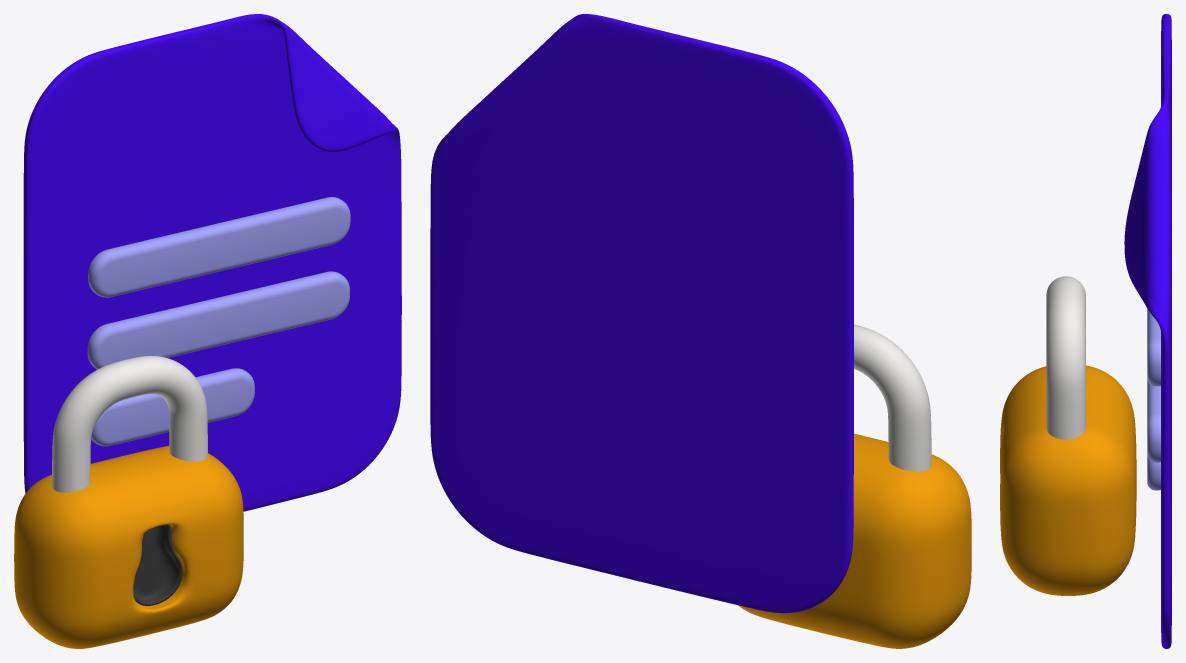
Rendered from file-locked-3d-animated-icon-969248136684.glb.
3 views of the same model, side by side, from view 1: azimuth 30°, elevation 25°; view 2: azimuth 150°, elevation 25°; view 3: azimuth 270°, elevation 25° (orthographic). The views are drawn at different scales.
Visible parts, largest first — view 1: File Base.007, Lock Base, Text.009, Lock, Hole; view 2: File Base.007, Lock Base, Lock; view 3: Lock Base, File Base.007, Lock, Text.009.
Boxes of the visible parts, left/top/right/bottom form: File Base.007: left=23, top=14, right=401, bottom=511; Lock Base: left=14, top=445, right=243, bottom=648; Text.009: left=87, top=197, right=350, bottom=446; Lock: left=52, top=355, right=207, bottom=492; Hole: left=133, top=524, right=182, bottom=605; File Base.007: left=430, top=14, right=853, bottom=613; Lock Base: left=738, top=433, right=971, bottom=648; Lock: left=854, top=324, right=931, bottom=471; Lock Base: left=1000, top=365, right=1136, bottom=595; File Base.007: left=1124, top=14, right=1171, bottom=648; Lock: left=1046, top=276, right=1085, bottom=439; Text.009: left=1147, top=309, right=1160, bottom=490.
Size of the model in its own units: 1.79 by 2.17 by 0.6113.
